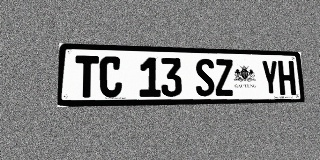1: (139, 57, 161, 97)
3: (161, 58, 182, 97)
C: (99, 56, 122, 97)
H: (278, 61, 296, 95)
S: (195, 58, 215, 96)
T: (75, 55, 99, 98)
Y: (261, 60, 279, 95)
Z: (214, 59, 234, 96)
